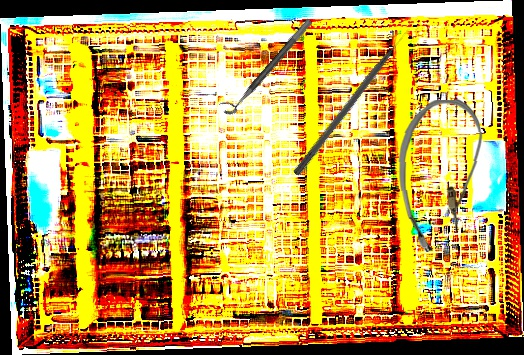Cannula: (396, 98, 487, 253)
Fixation Ring: (216, 11, 314, 119)
Pusher: (292, 26, 414, 178)
